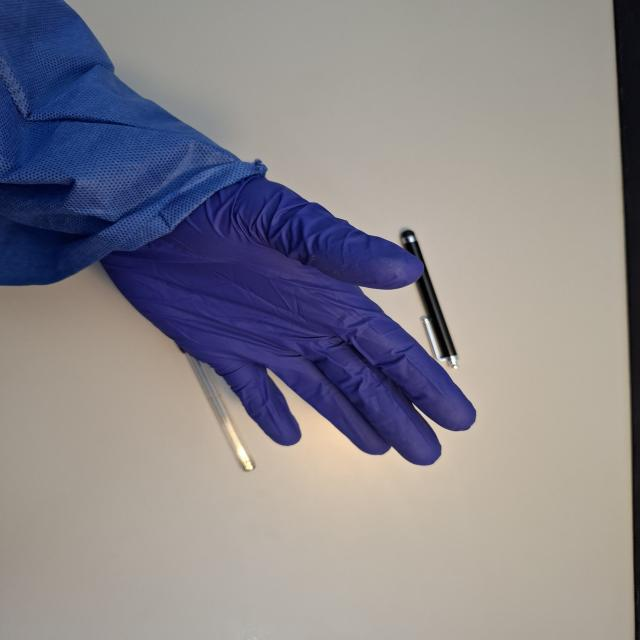glove_on: (93, 168, 481, 470)
